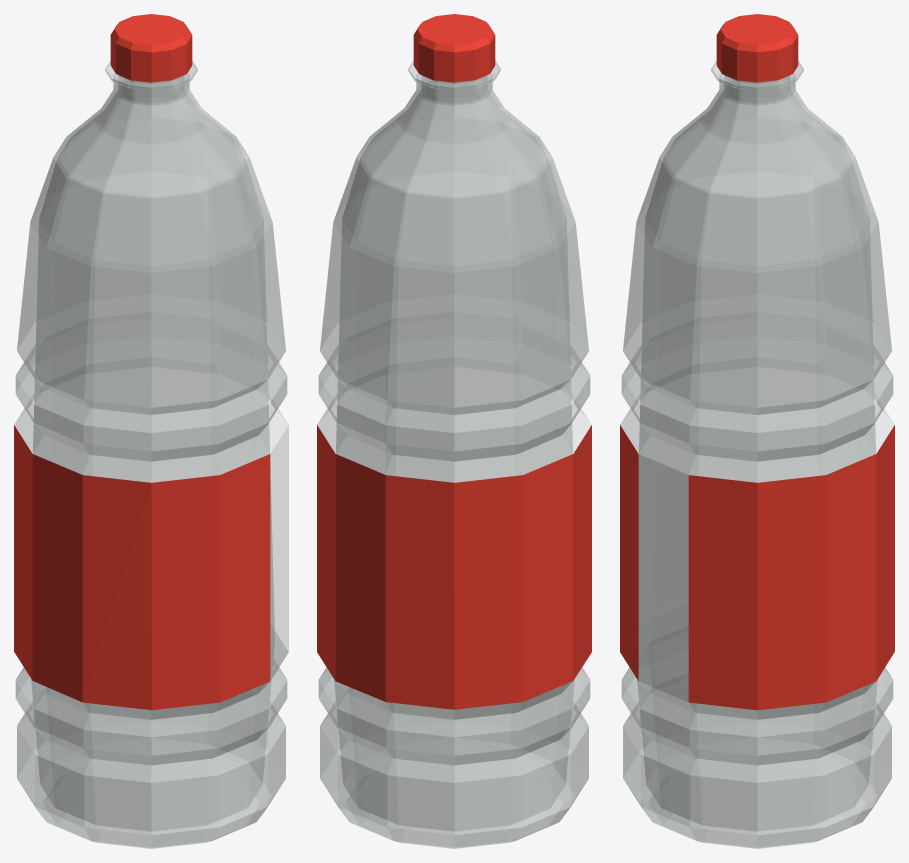
The model's file is bottle_plastic.glb.
3 renders of one model, left to right at view 1: azimuth 30°, elevation 25°; view 2: azimuth 150°, elevation 25°; view 3: azimuth 270°, elevation 25°, orthographic.
Parts seen in each view (by area): view 1: group107596060, group1013053533; view 2: group107596060, group1013053533; view 3: group107596060, group1013053533.
Boxes of the visible parts, x1,y1,x2,y2 form: group107596060: [14, 61, 288, 848]; group1013053533: [110, 14, 192, 82]; group107596060: [317, 61, 591, 848]; group1013053533: [413, 14, 495, 82]; group107596060: [620, 61, 894, 848]; group1013053533: [716, 14, 798, 82].
Size of the model in its own units: 2.01 by 6.25 by 2.01.
